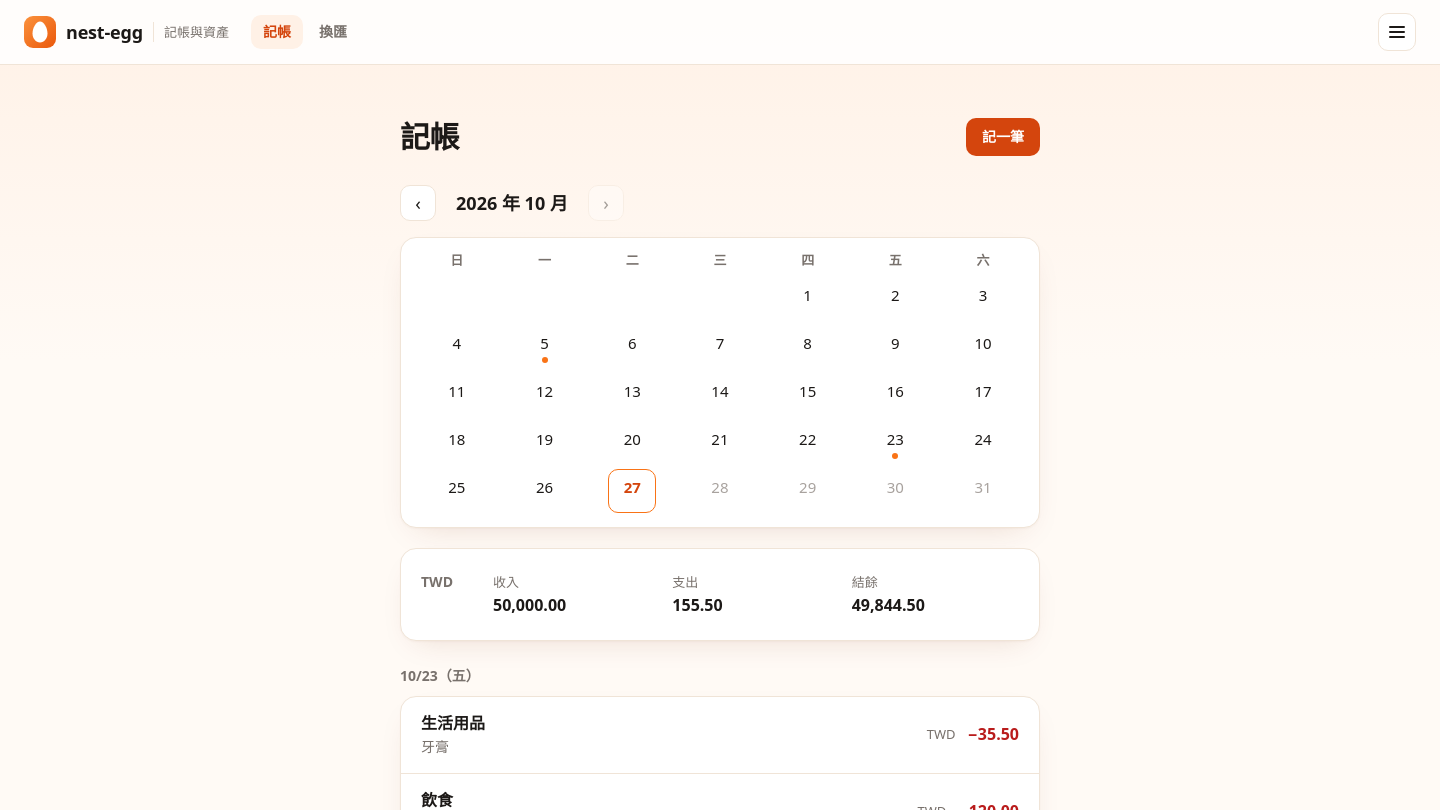
Test case: calendar › back-fills yesterday from the calendar and comes back to that day
The image size is (1440, 810).
Click the button named "10/26（一）" at (544, 491), box [520,469,568,513]
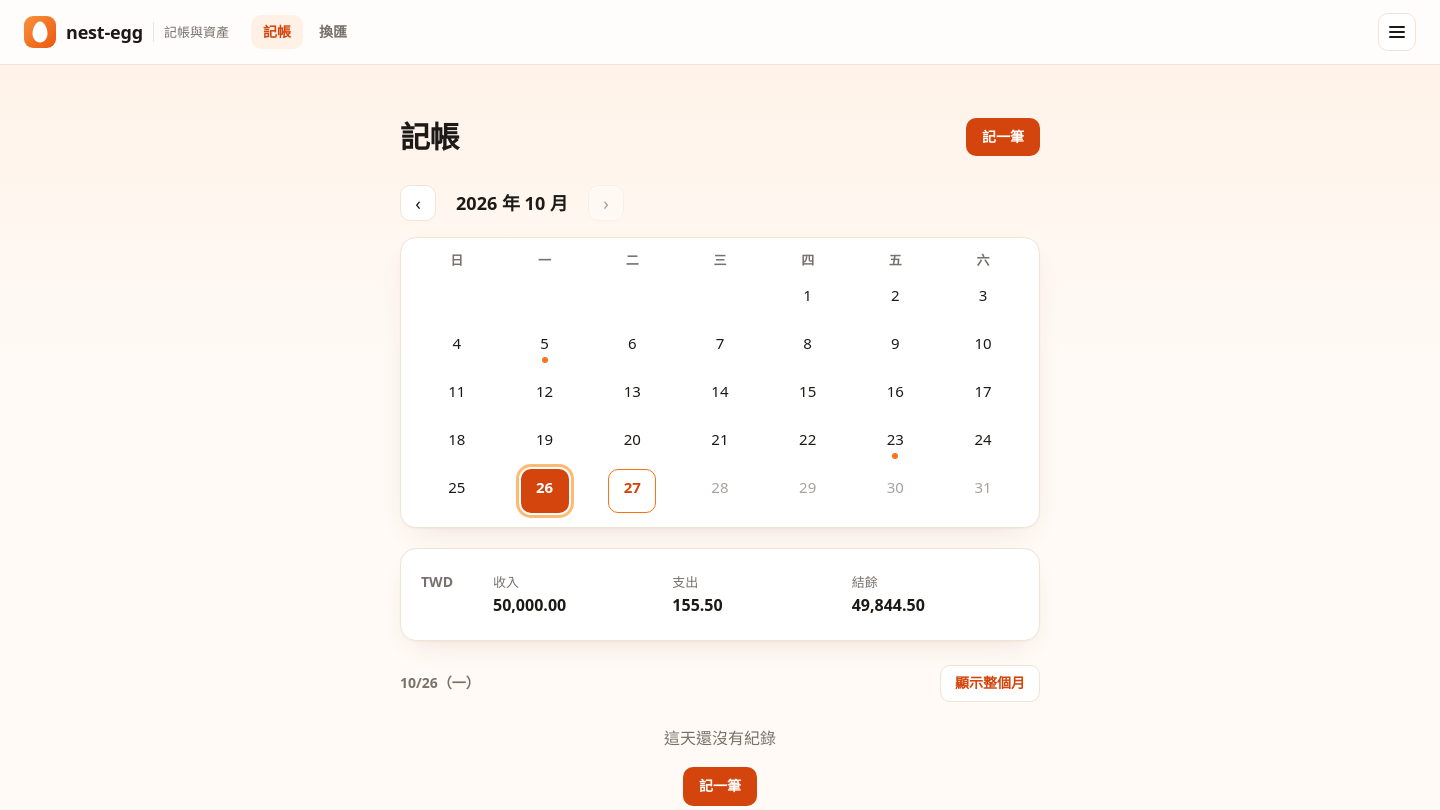
Click the 1st link "記一筆" at (1003, 137), box [966,118,1040,156]
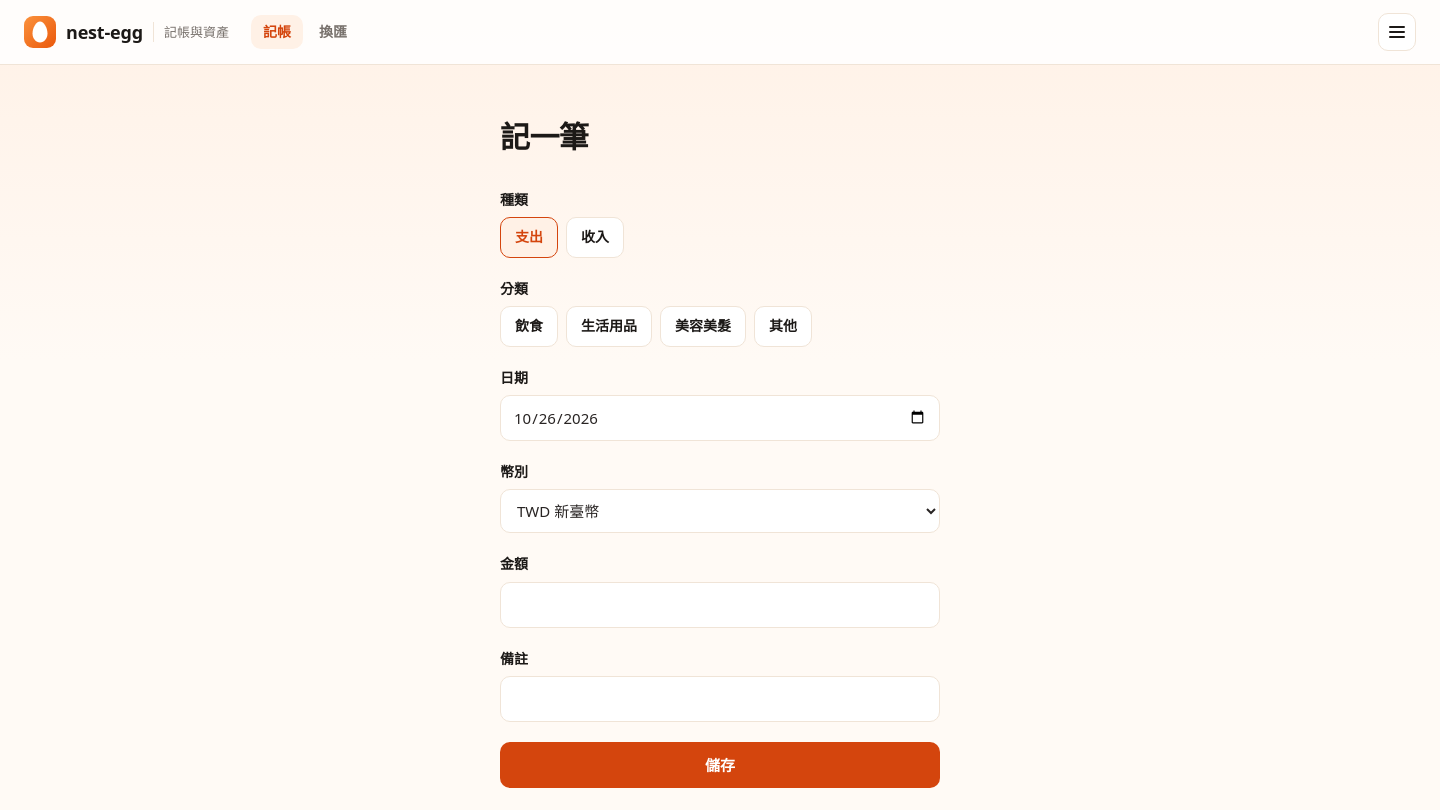
expect the date field labelled "日期" holds "2026-10-26": met, box [500,395,940,441]
Click the radio button labelled "飲食" at (529, 326), box [500,306,558,347]
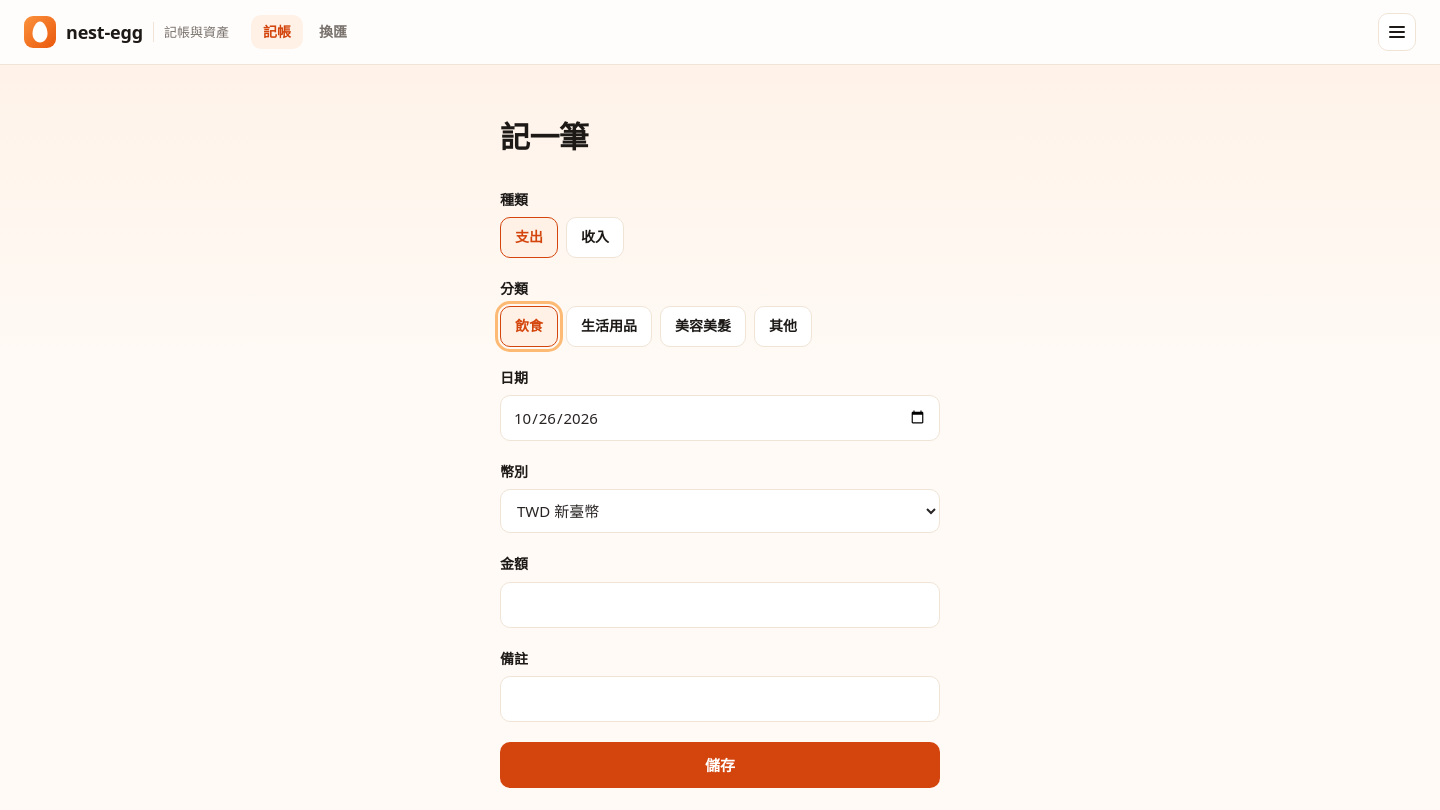
Type "85" into the field labelled "金額" at (720, 605), box [500,582,940,628]
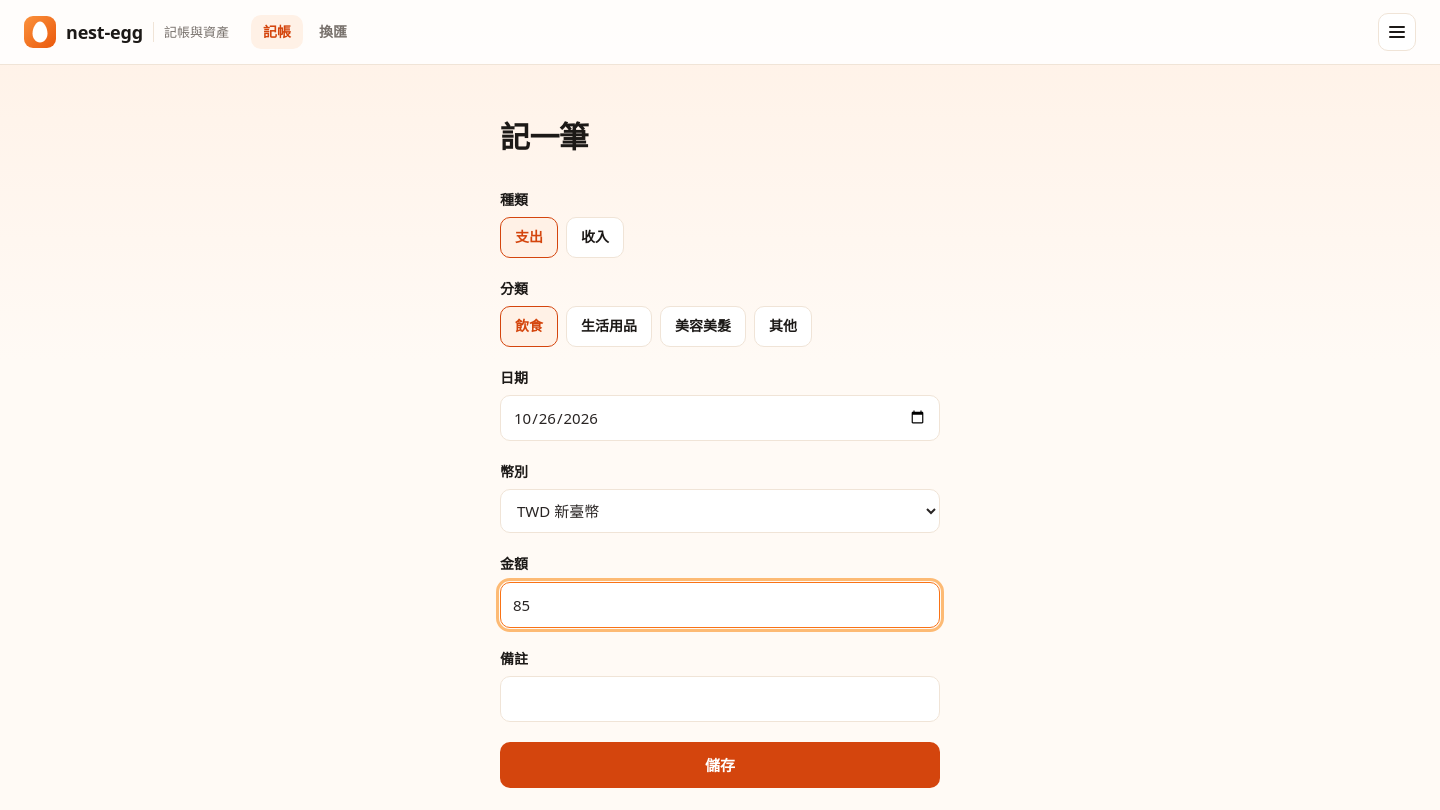
Click the button "儲存" at (720, 765), box [500,742,940,788]
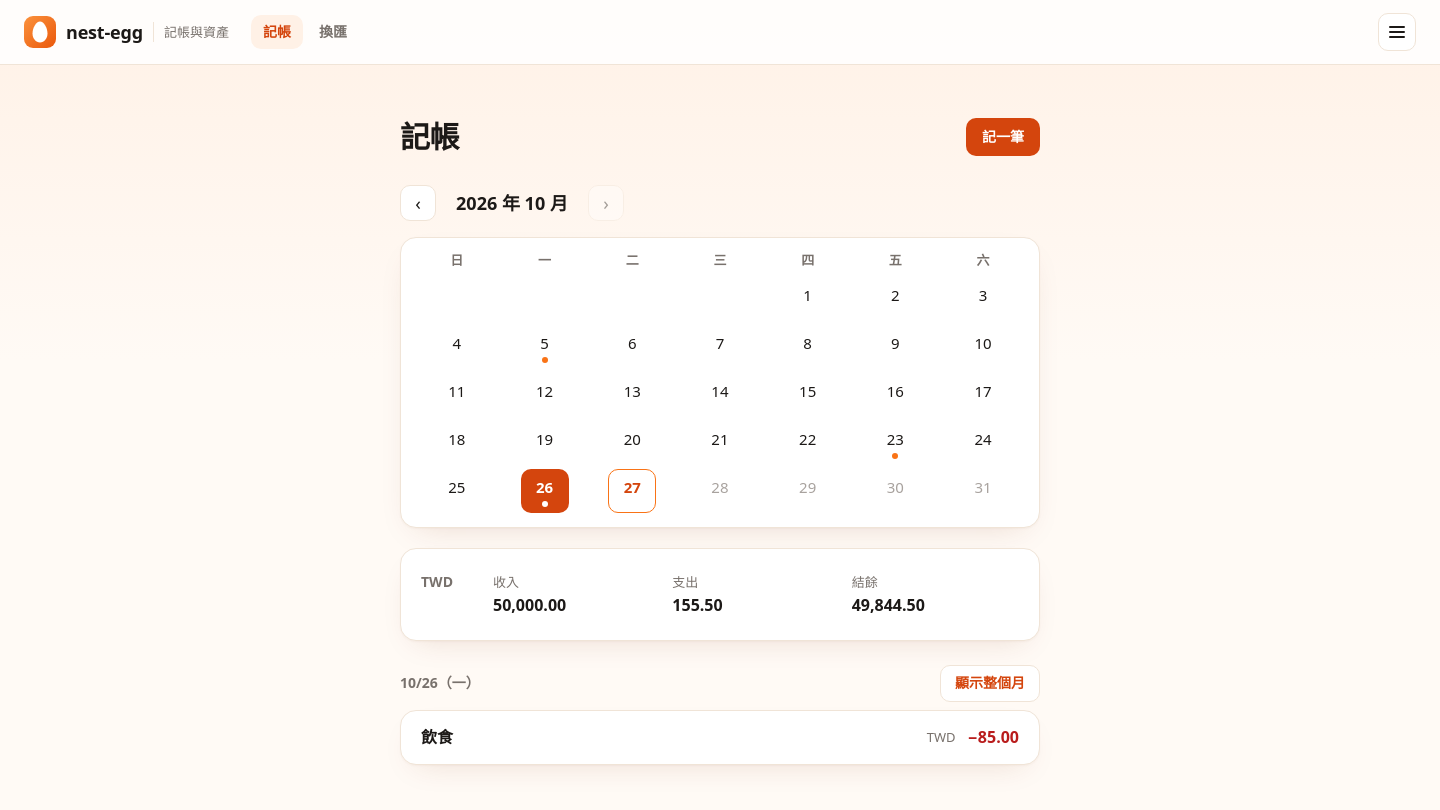
expect the link "飲食 TWD −85.00" is shown: met, box [421,726,1019,748]
